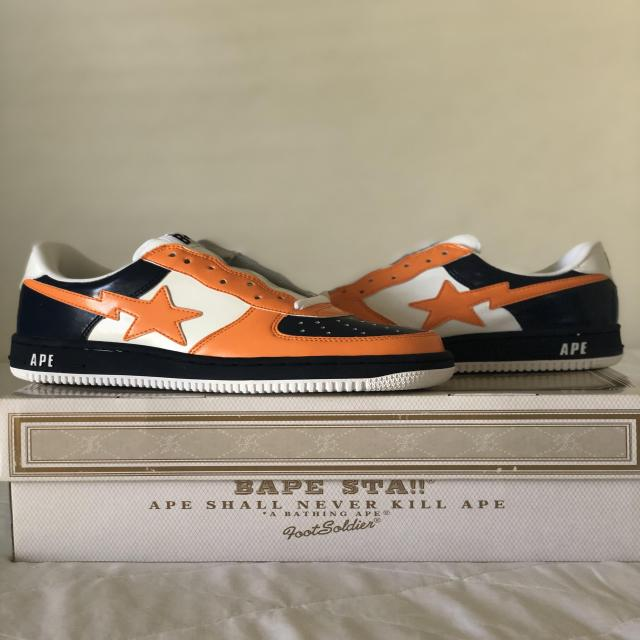shoe: (10, 232, 458, 400), (305, 235, 640, 397)
